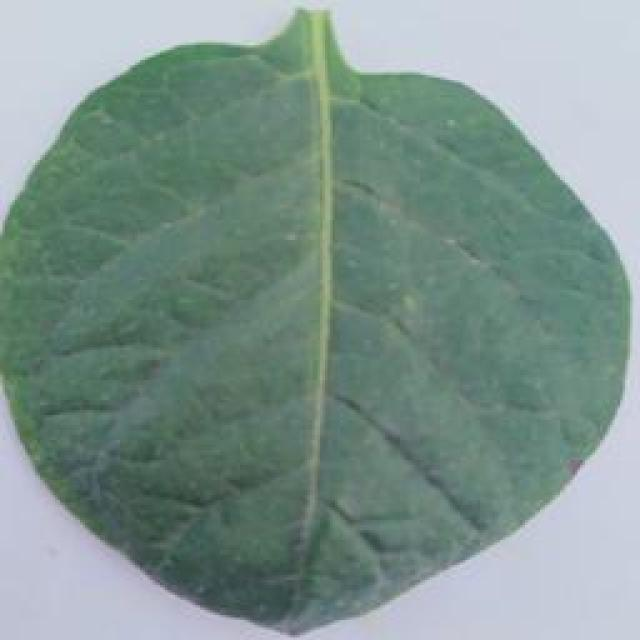Potato_Healthy: (8, 7, 636, 628)
